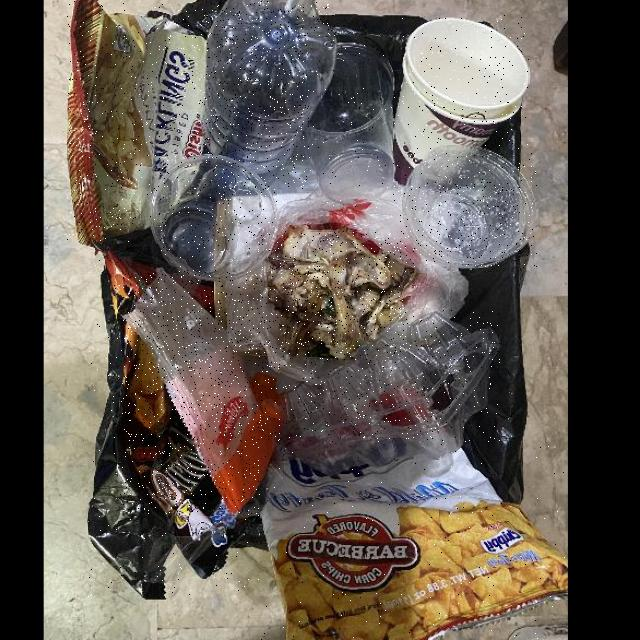biowaste: (270, 231, 406, 359)
paper: (394, 15, 529, 181)
plastic: (281, 310, 501, 479), (203, 1, 335, 190), (399, 145, 537, 268), (151, 157, 277, 281), (309, 41, 397, 207)
wrapper: (89, 251, 267, 597), (261, 443, 568, 640), (122, 270, 287, 515), (68, 1, 207, 243)
